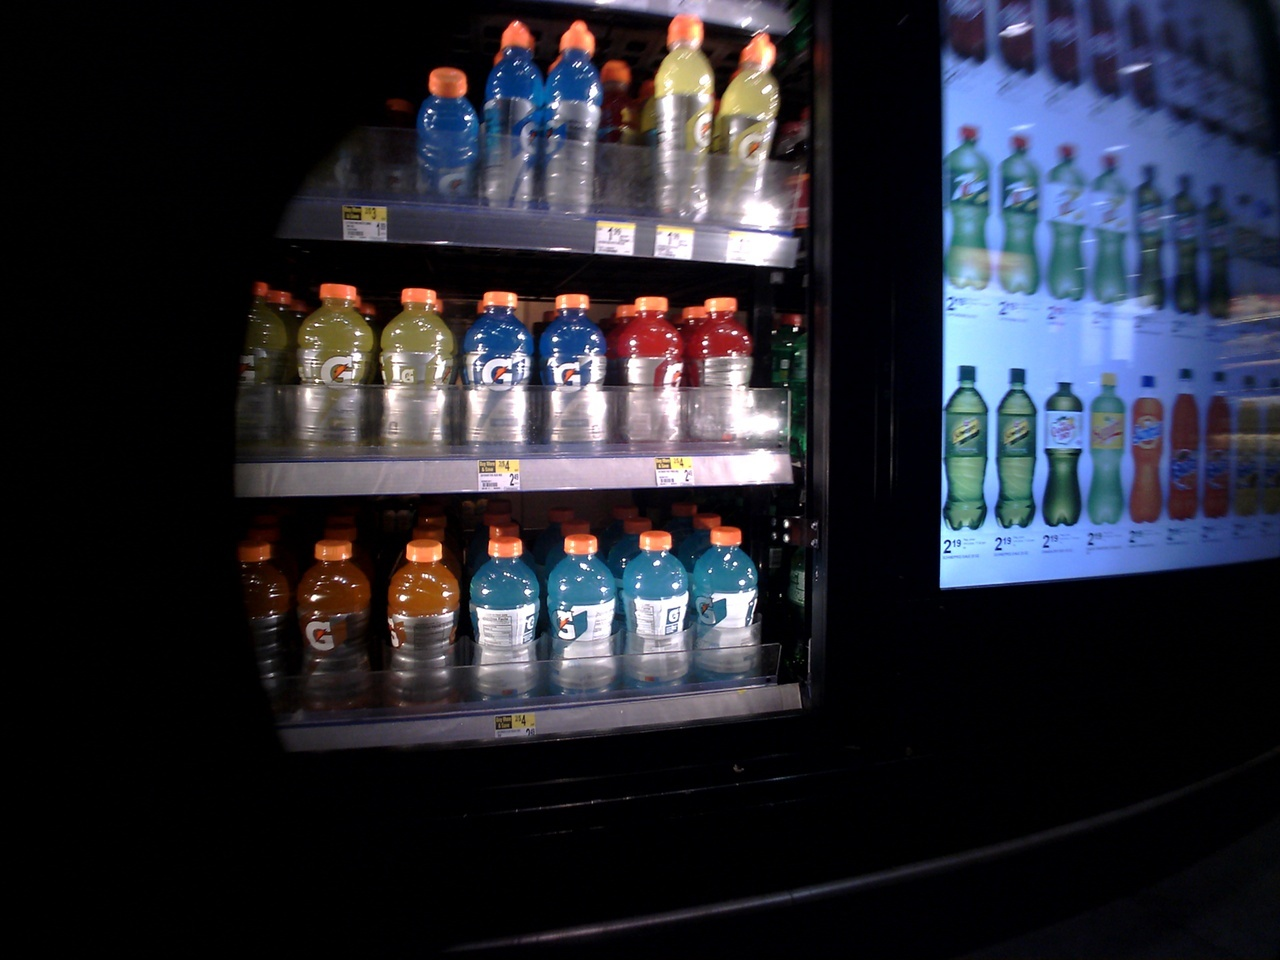shelf: (198, 9, 817, 258), (211, 492, 786, 733), (202, 265, 807, 487)
